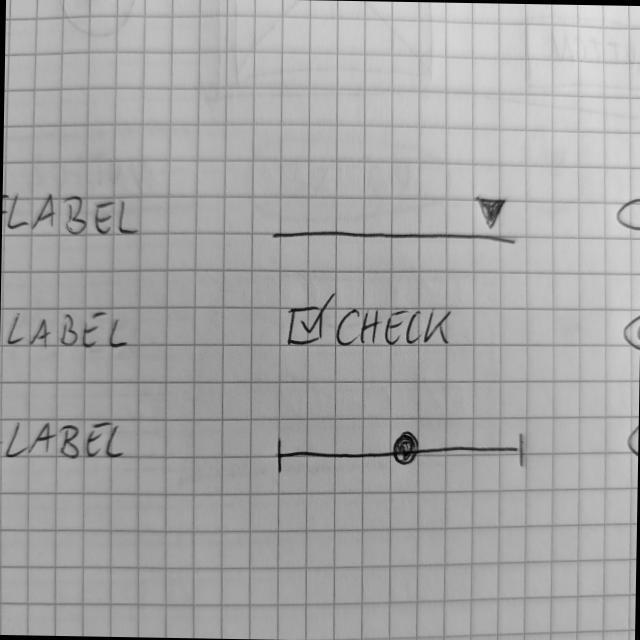checkbox: (281, 291, 465, 354)
label: (3, 184, 145, 242), (1, 305, 133, 357), (1, 413, 133, 465)
select: (268, 189, 520, 252)
slider: (272, 422, 537, 484)
toggle: (614, 192, 640, 235), (621, 304, 640, 355), (624, 410, 640, 463)
